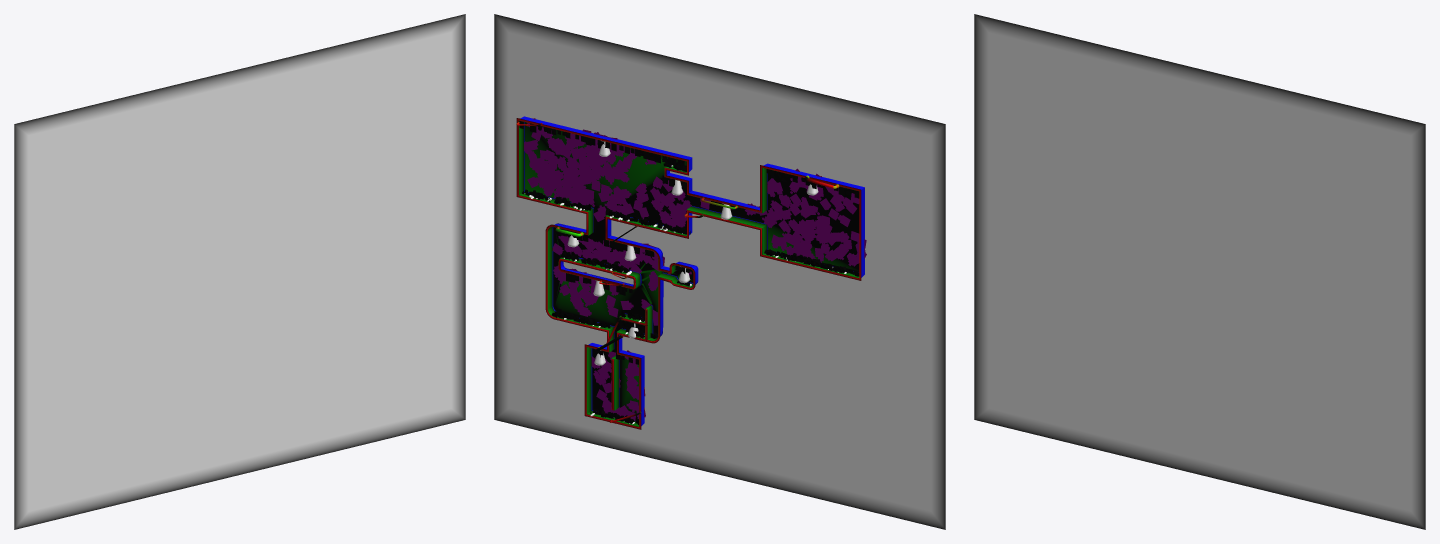
File: lvlmodel_sandbox.fbx
The picture shows the model from 3 angles, left to right: view 1: azimuth 30°, elevation 25°; view 2: azimuth 150°, elevation 25°; view 3: azimuth 330°, elevation 25°; orthographic projection.
Visible parts, largest first — view 1: model_geometry; view 2: model_geometry; view 3: model_geometry.
Boxes of the visible parts, x1,y1,x2,y2 form: model_geometry: (14, 14, 465, 529); model_geometry: (494, 14, 945, 529); model_geometry: (974, 14, 1425, 529).
Size of what is drawn, in the model's own units: 13514 by 11604 by 1763.
